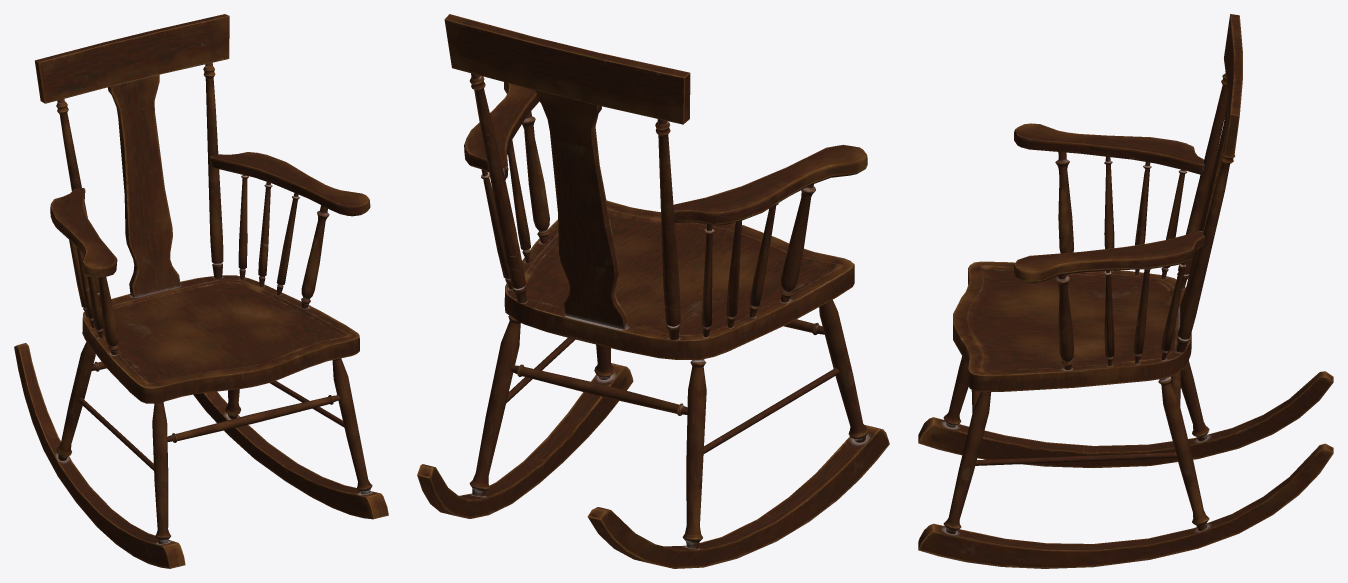
The model's file is Rockingchair_01.glb.
3 renders of one model, left to right at view 1: azimuth 30°, elevation 25°; view 2: azimuth 150°, elevation 25°; view 3: azimuth 270°, elevation 25°, orthographic. The views are drawn at different scales.
Visible parts, largest first — view 1: Rockingchair_01; view 2: Rockingchair_01; view 3: Rockingchair_01.
Part boxes in pixels (<box>): Rockingchair_01: <box>14,14,388,568</box>; Rockingchair_01: <box>417,14,889,568</box>; Rockingchair_01: <box>918,14,1333,568</box>.
Size of the model in its own units: 0.7081 by 0.9949 by 0.8335.
1 material, 1 textured.
